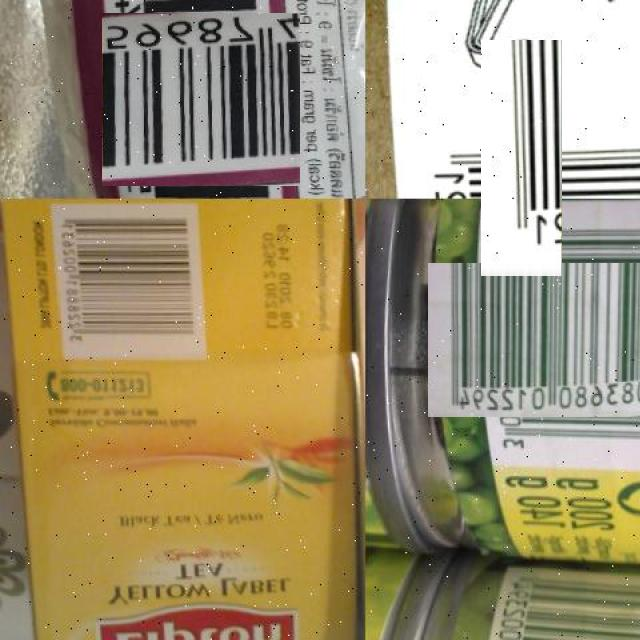Barcode: (457, 234, 640, 447), (108, 7, 295, 192), (442, 79, 601, 238), (58, 203, 206, 362)
